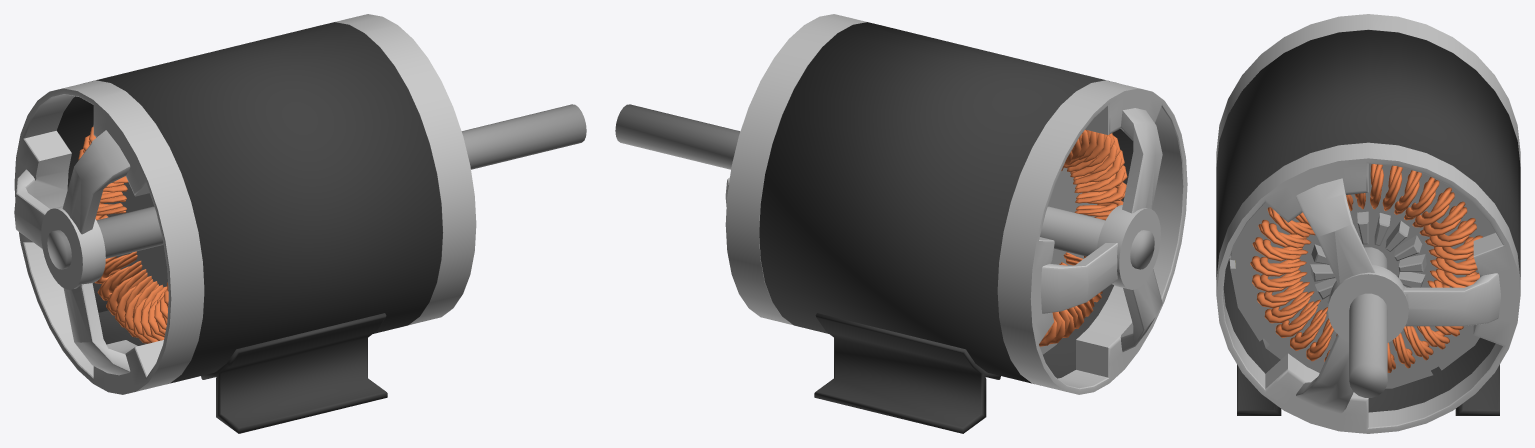
File: motor one piece.fbx
The picture shows the model from 3 angles, left to right: view 1: azimuth 30°, elevation 25°; view 2: azimuth 150°, elevation 25°; view 3: azimuth 270°, elevation 25°; orthographic projection. The views are drawn at different scales.
Visible parts, largest first — view 1: Motor one piece; view 2: Motor one piece; view 3: Motor one piece.
Boxes of the visible parts, left/top/right/bottom form: Motor one piece: left=14, top=14, right=586, bottom=433; Motor one piece: left=615, top=14, right=1187, bottom=433; Motor one piece: left=1216, top=14, right=1520, bottom=433.
Bounding box in the file's own units: 2467 × 1379 × 1290.
